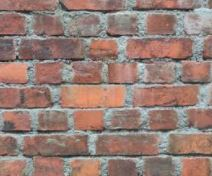brick: (21, 135, 89, 156), (96, 134, 160, 156), (125, 39, 195, 59), (18, 38, 83, 59), (136, 85, 201, 106), (60, 86, 128, 105), (1, 87, 53, 108), (167, 133, 212, 154), (72, 108, 109, 130), (141, 61, 177, 83), (70, 61, 105, 83), (31, 13, 66, 34), (70, 14, 105, 35), (108, 13, 141, 35), (111, 107, 144, 129), (146, 13, 180, 34), (1, 109, 33, 131), (36, 60, 65, 84), (35, 110, 70, 129), (147, 109, 180, 129), (181, 60, 212, 81), (30, 157, 64, 176), (184, 108, 212, 130), (66, 1, 126, 11), (109, 62, 137, 83), (1, 64, 30, 84), (68, 158, 102, 175), (142, 158, 174, 176), (1, 1, 58, 11), (1, 13, 29, 33), (91, 40, 119, 60), (183, 158, 209, 176), (135, 1, 191, 9), (1, 156, 24, 175), (108, 160, 135, 176), (1, 40, 16, 59)
